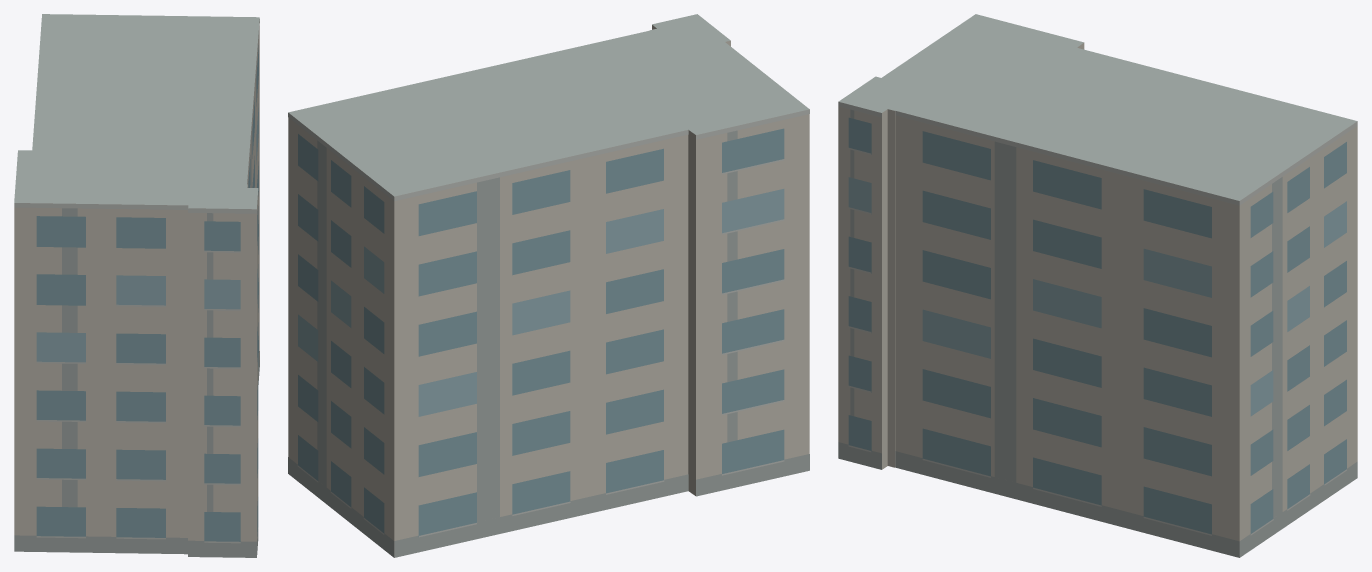
File: survey-upis-32958543.glb
The picture shows the model from 3 angles, left to right: view 1: azimuth 30°, elevation 25°; view 2: azimuth 150°, elevation 25°; view 3: azimuth 270°, elevation 25°; orthographic projection. The views are drawn at different scales.
Visible parts, largest first — view 1: survey-upis-32958543.tmp; view 2: survey-upis-32958543.tmp; view 3: survey-upis-32958543.tmp.
Part boxes in pixels (<box>): survey-upis-32958543.tmp: <box>14,14,259,557</box>; survey-upis-32958543.tmp: <box>288,14,809,557</box>; survey-upis-32958543.tmp: <box>838,14,1357,557</box>.
Bounding box in the file's own units: 20.8 × 18.5 × 24.4.
